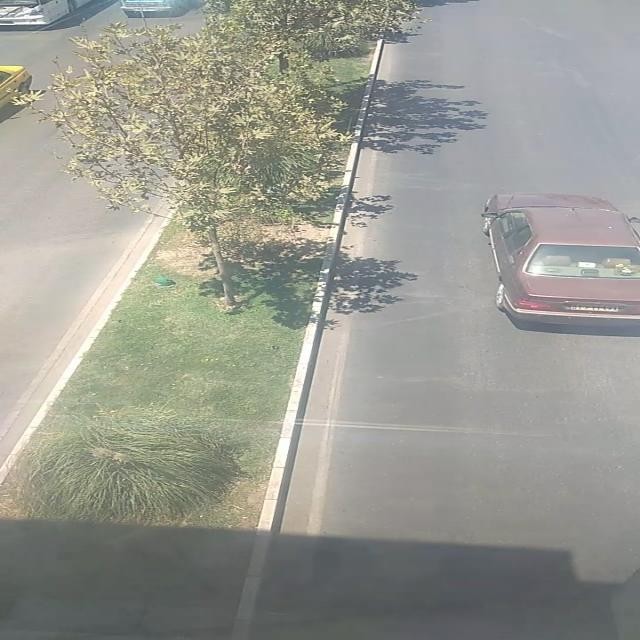bus: (0, 1, 99, 27)
car: (482, 193, 640, 325), (0, 65, 35, 115)
